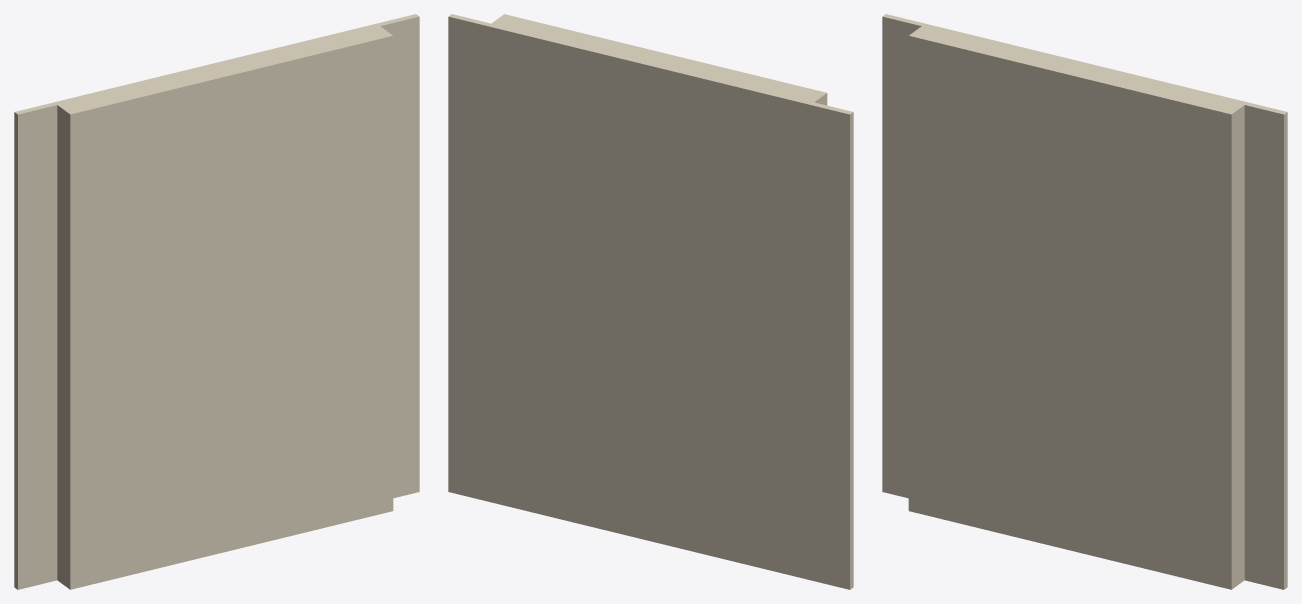
3 renders of one model, left to right at view 1: azimuth 30°, elevation 25°; view 2: azimuth 150°, elevation 25°; view 3: azimuth 330°, elevation 25°, orthographic.
Parts seen in each view (by area): view 1: B-FF-WALL-009; view 2: B-FF-WALL-009; view 3: B-FF-WALL-009.
Part boxes in pixels (x1,y1,x2,y2): B-FF-WALL-009: (14, 14, 419, 589); B-FF-WALL-009: (448, 14, 853, 589); B-FF-WALL-009: (882, 14, 1287, 589).
Size of the model in its own units: 2.14 by 2.42 by 0.1528.
